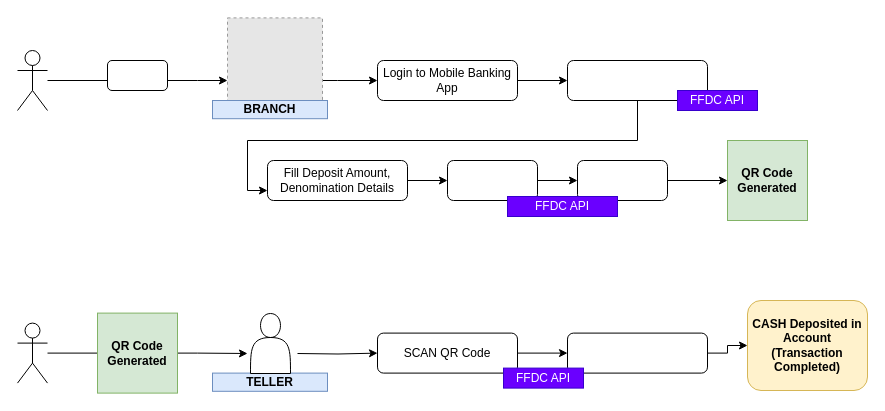
Some shapes in this 885 by 411 pixel diagram are drawn without their labels. Grey dashed boxes stand in for pictures. The shapes that lost their labels are listed below. From the top down, each one's centre as x and y in pixels, then its label:
(x=137, y=75): Deposit CASH
(x=637, y=80): Select Current / Savings Account
(x=492, y=180): Review Details
(x=622, y=180): OTP Validation (SLA)
(x=637, y=352): Prefill CASH Deposit Details in Core Banking
